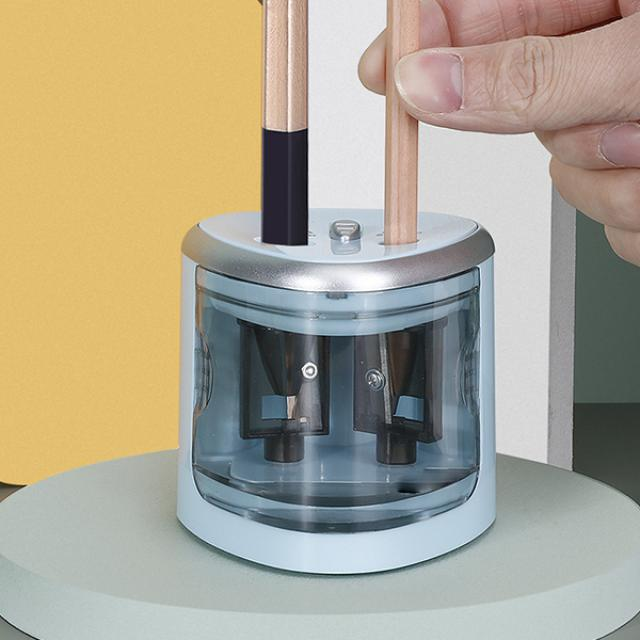pencil_sharpener: (164, 182, 536, 580)
